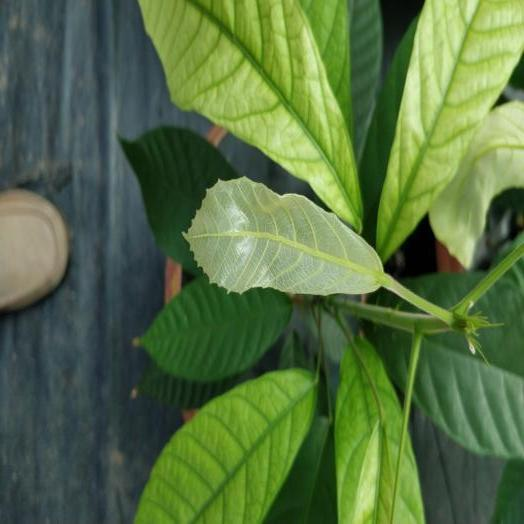Healthy Leaf: (415, 283, 523, 459), (120, 126, 236, 275), (139, 276, 291, 380)
Iron: (140, 0, 362, 232), (376, 0, 523, 259), (135, 368, 316, 523), (184, 177, 390, 295), (430, 102, 523, 267), (335, 337, 401, 523), (394, 437, 424, 523)
